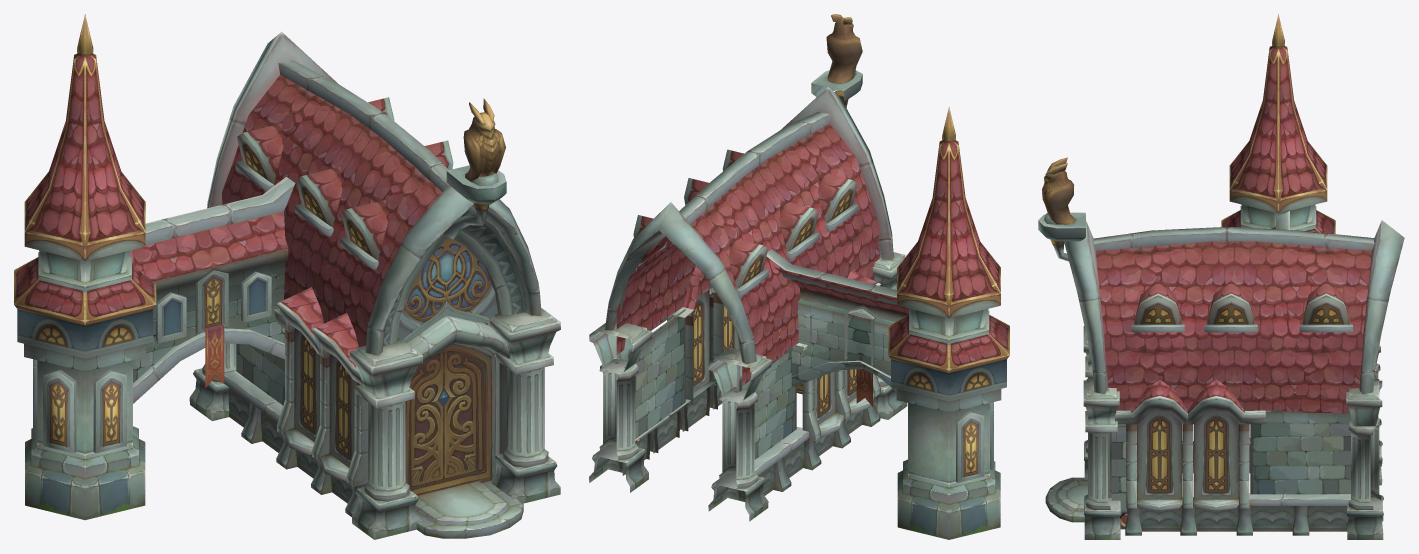
Rendered from Map_045_house13.FBX.
The picture shows the model from 3 angles, left to right: view 1: azimuth 30°, elevation 25°; view 2: azimuth 150°, elevation 25°; view 3: azimuth 270°, elevation 25°; orthographic projection. The views are drawn at different scales.
Visible parts, largest first — view 1: Map_06_house13; view 2: Map_06_house13; view 3: Map_06_house13.
Boxes of the visible parts, box(x1,y1,x2,y2) form: Map_06_house13: box(14, 14, 560, 539); Map_06_house13: box(589, 14, 1009, 539); Map_06_house13: box(1038, 14, 1404, 539).
Bounding box in the file's own units: 1169 × 1242 × 1058.
1 material, 1 textured.
